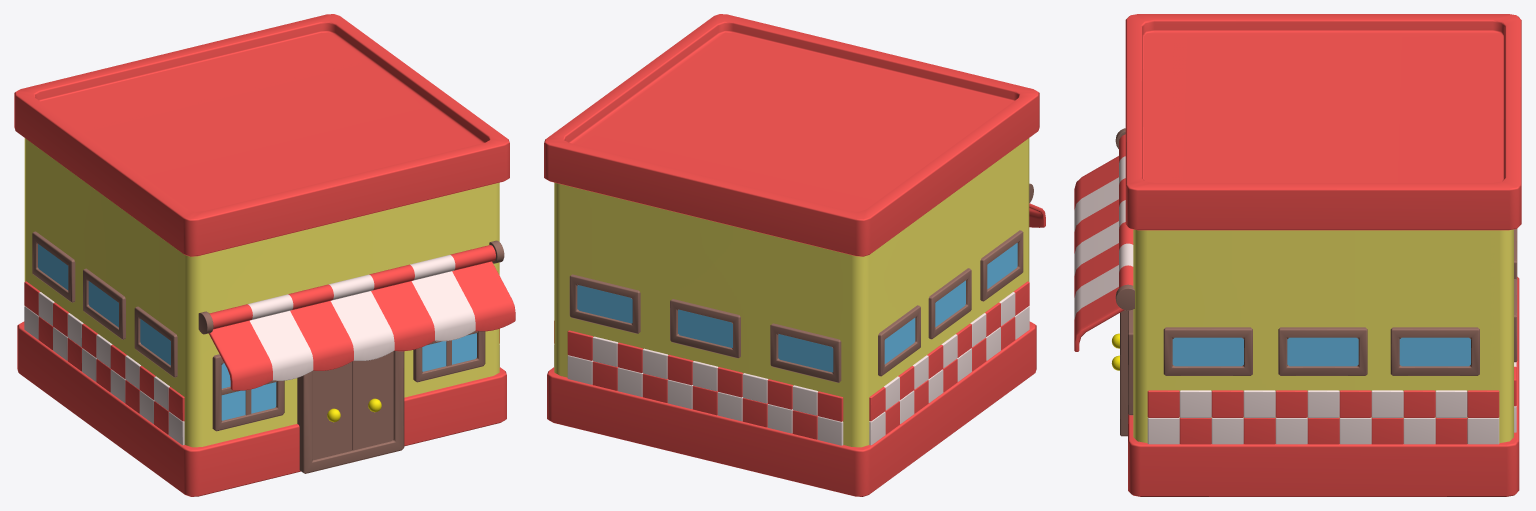
The model's file is Store_12_Hot_Dog_Shop_1.glb.
3 renders of one model, left to right at view 1: azimuth 30°, elevation 25°; view 2: azimuth 150°, elevation 25°; view 3: azimuth 270°, elevation 25°, orthographic. The views are drawn at different scales.
Visible parts, largest first — view 1: Store_12_Hot_Dog_Shop_1; view 2: Store_12_Hot_Dog_Shop_1; view 3: Store_12_Hot_Dog_Shop_1.
Part boxes in pixels (x1,y1,x2,y2): Store_12_Hot_Dog_Shop_1: [14, 14, 515, 496]; Store_12_Hot_Dog_Shop_1: [544, 14, 1045, 496]; Store_12_Hot_Dog_Shop_1: [1074, 14, 1521, 496].
Size of the model in its own units: 8.15 by 6.68 by 8.74.
1 material, 1 textured.
